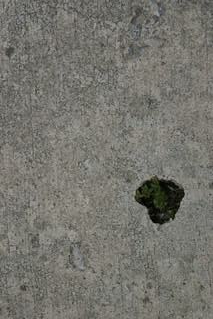Spalling: (134, 177, 186, 226)
